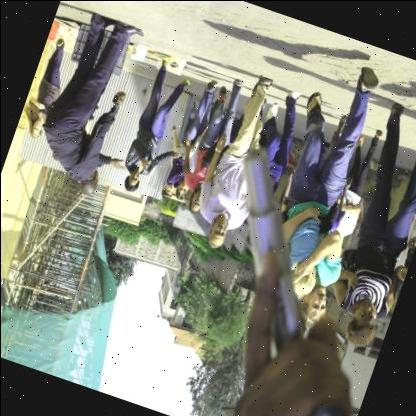rifle: (157, 140, 416, 416)
